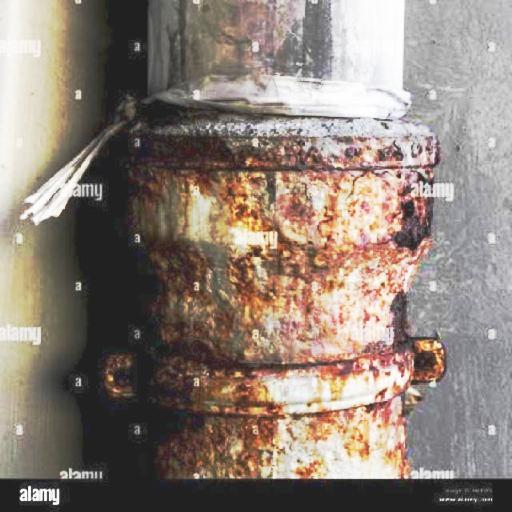corrosion: (112, 134, 434, 483)
